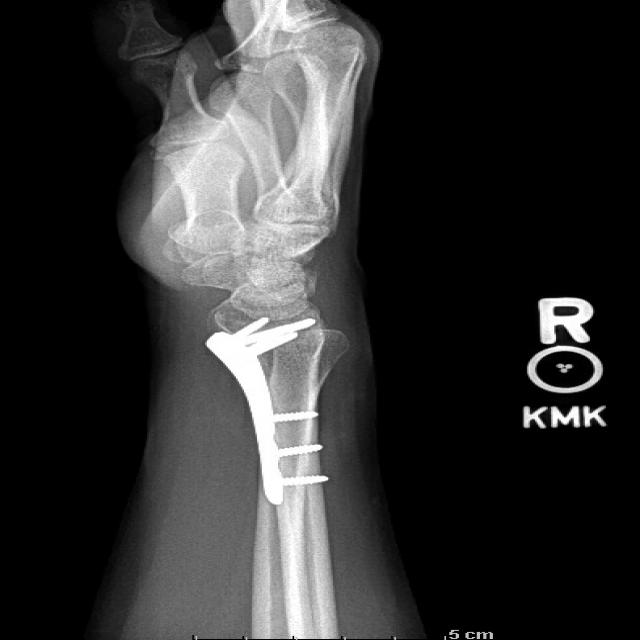x-ray: (184, 310, 354, 514)
